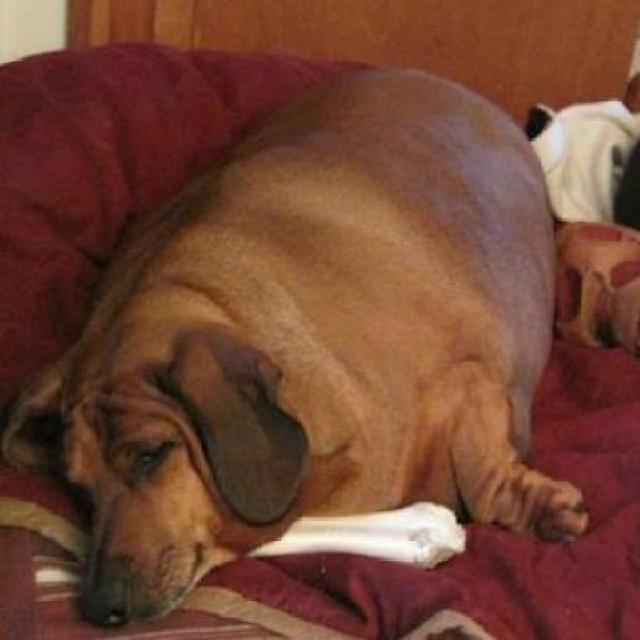Dog: (8, 57, 590, 638)
